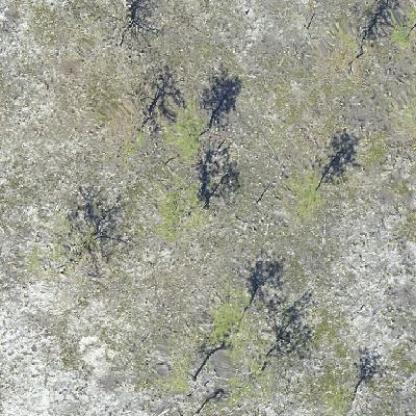tree-top: (163, 107, 204, 155), (209, 304, 248, 340), (293, 176, 330, 211)
